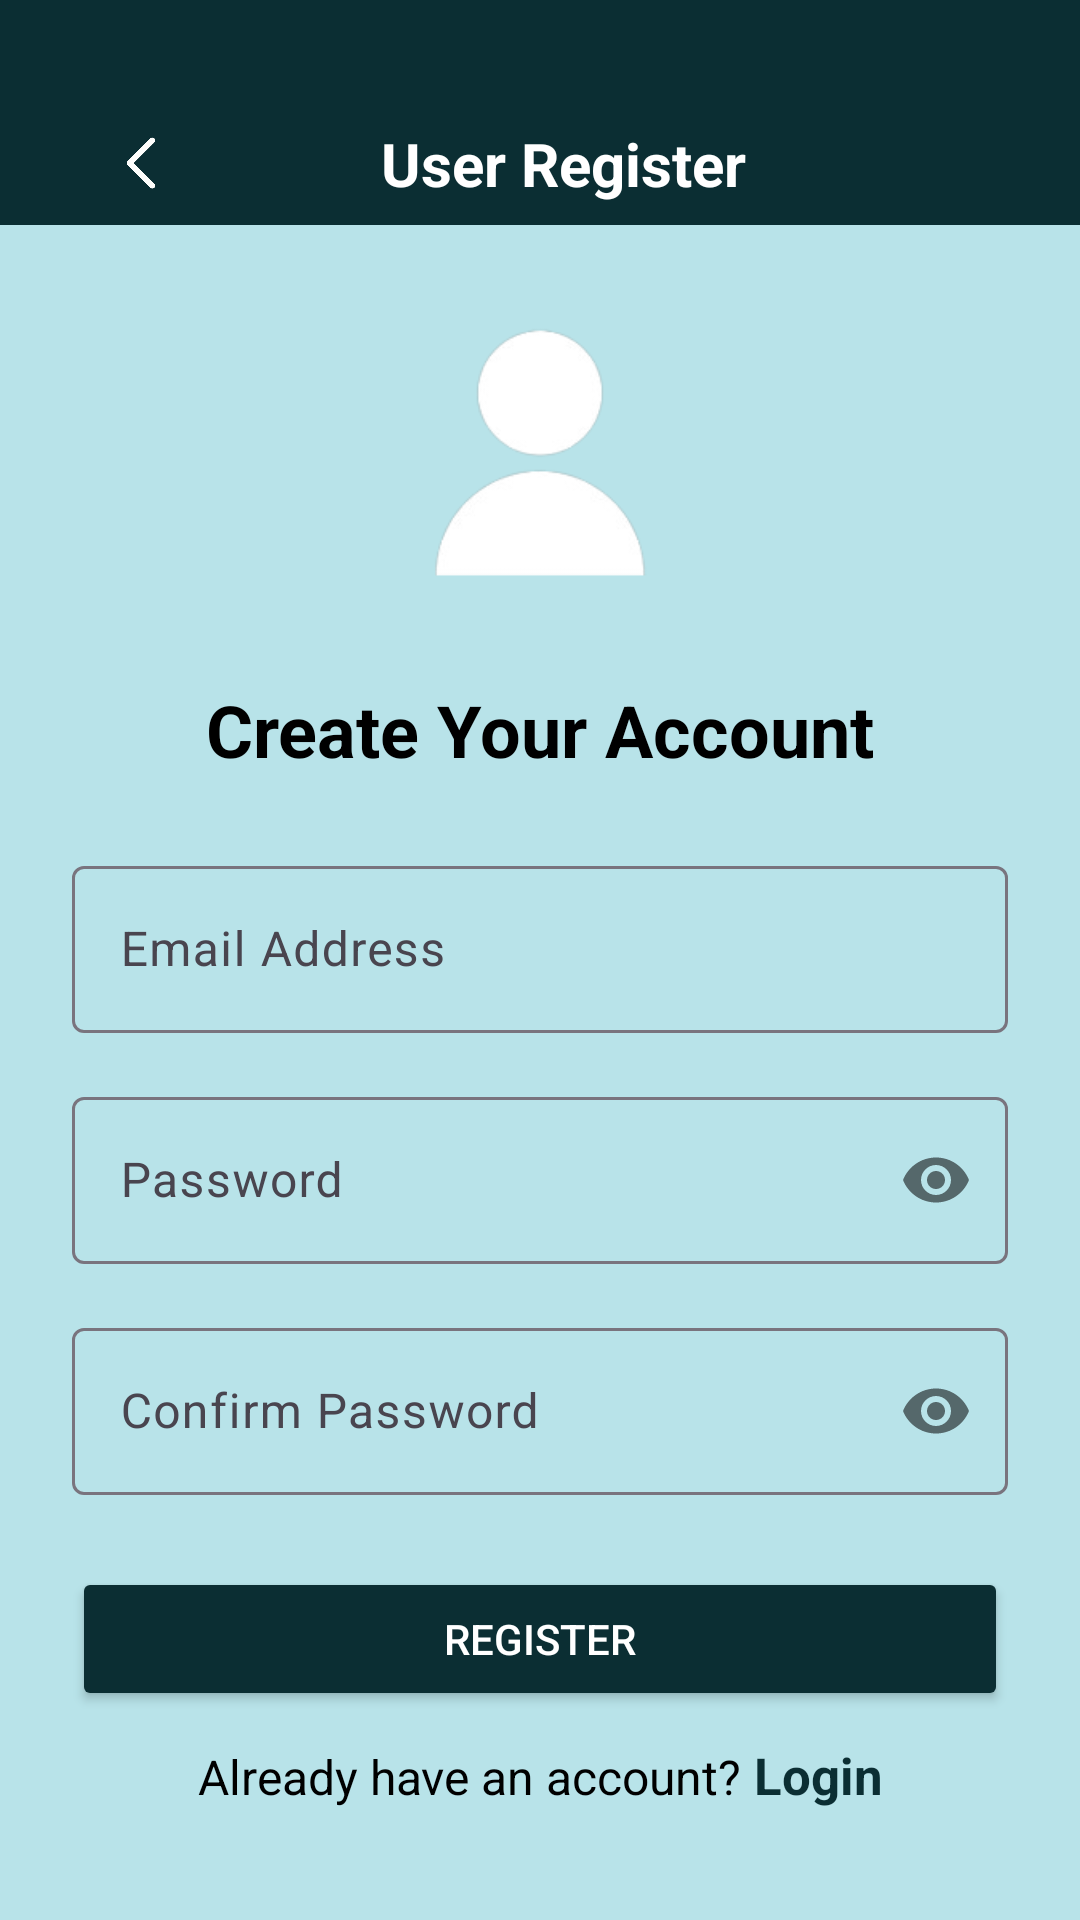

Icon click points for this 1080px×1920px phone screenshot, format (x,y):
Back: (141,163)
Header image: (540,453)
